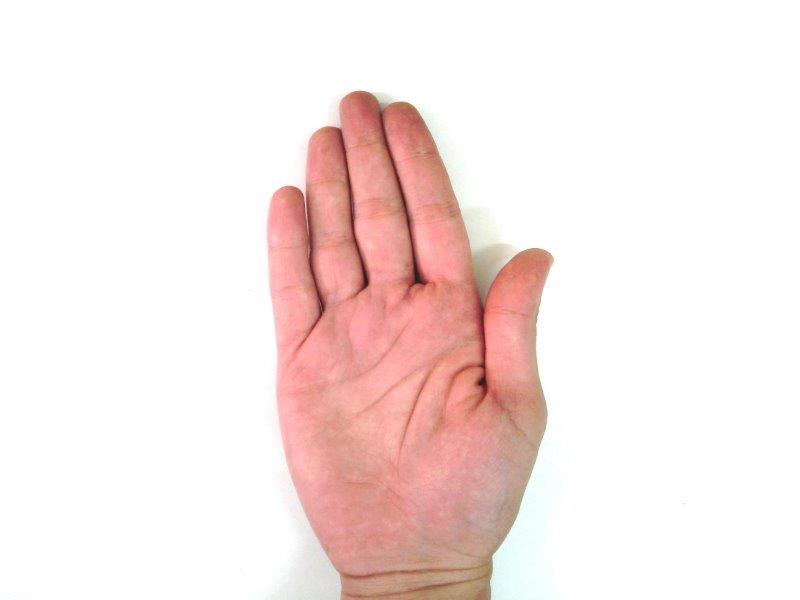hand: (267, 91, 550, 564)
